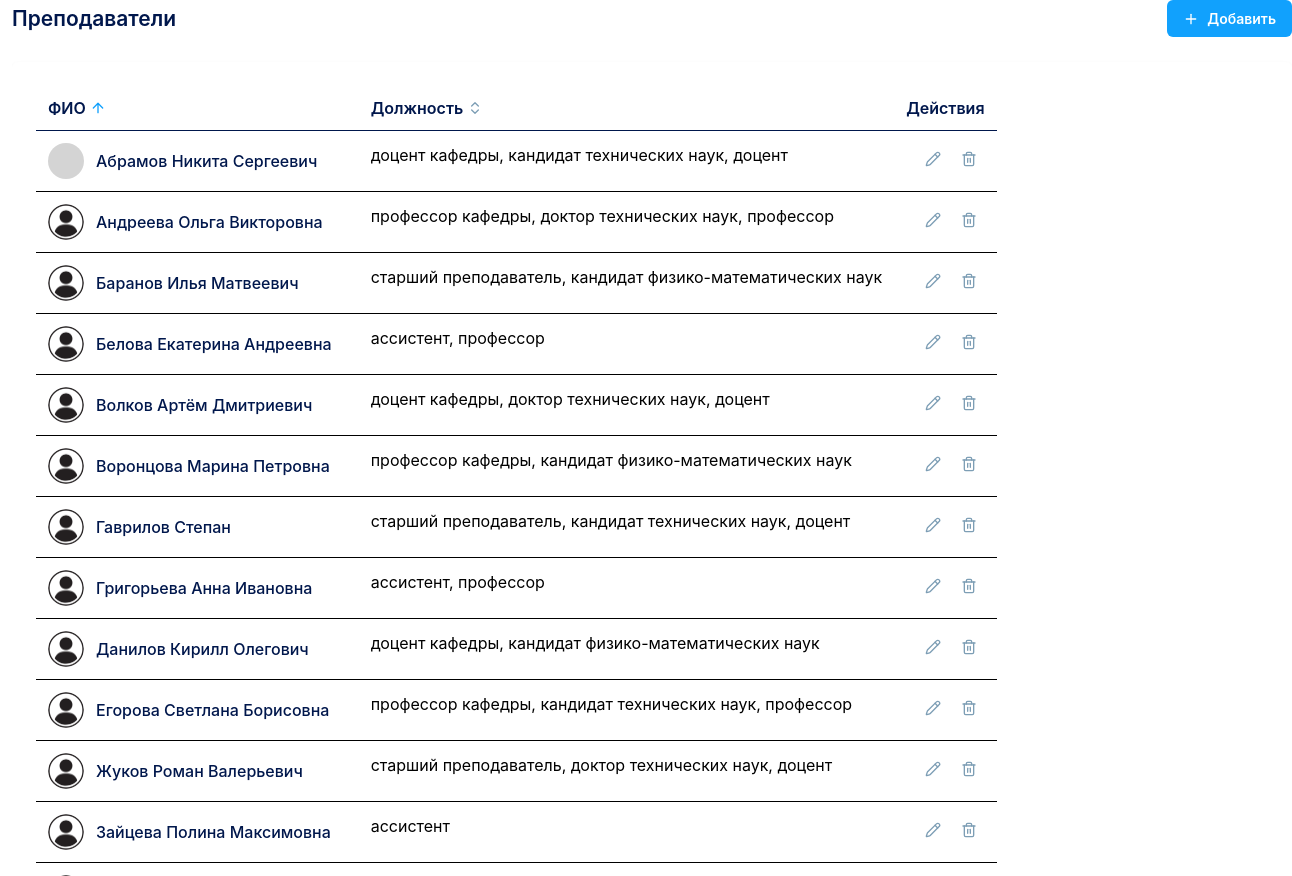
Test: AdminTeachersPage, список › меняет порядок кликом по заголовку колонки
Click the button "ФИО".
click(77, 108)  # box [48,96,106,120]
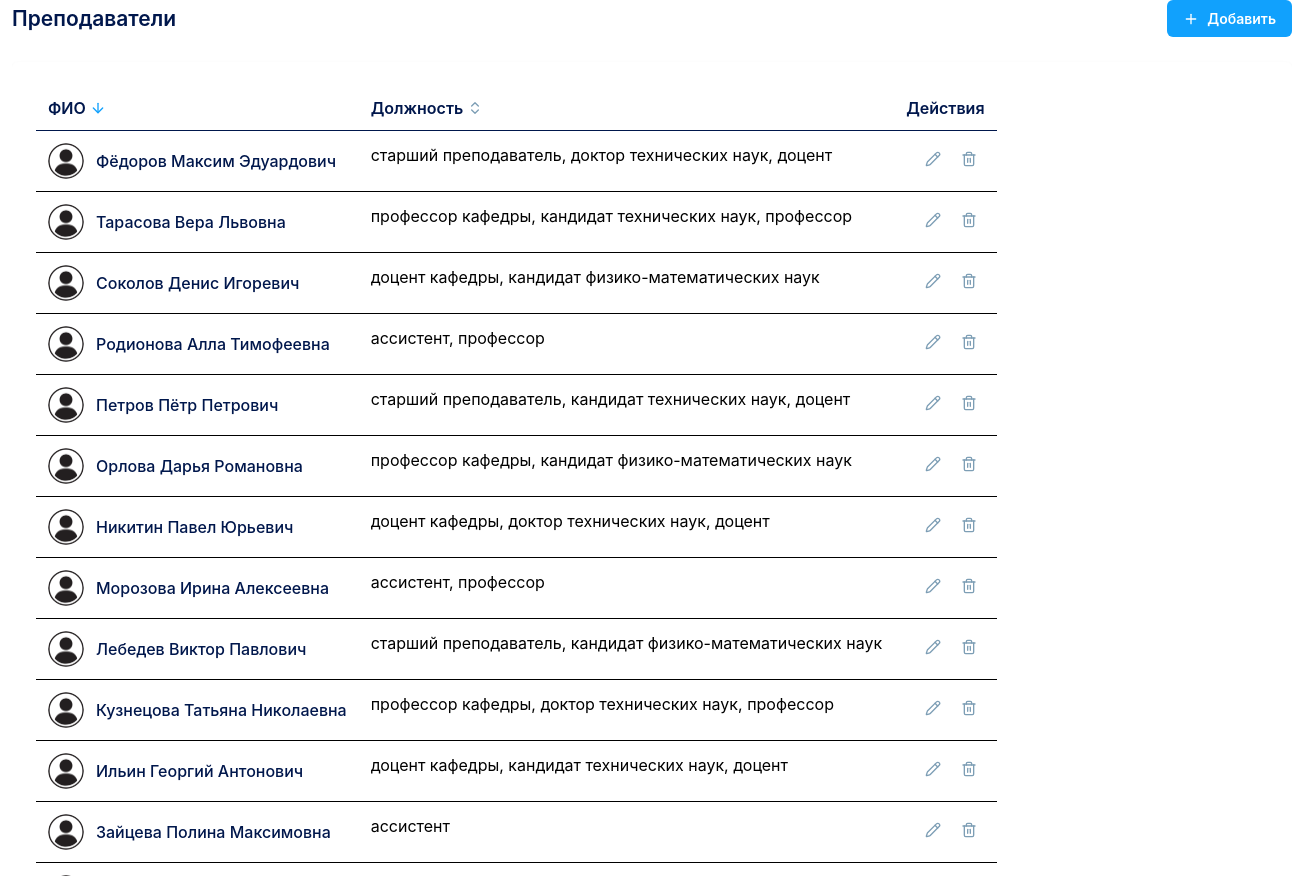
Check: the cell "Фёдоров Максим Эдуардович" is shown, box [36,130,359,192]
